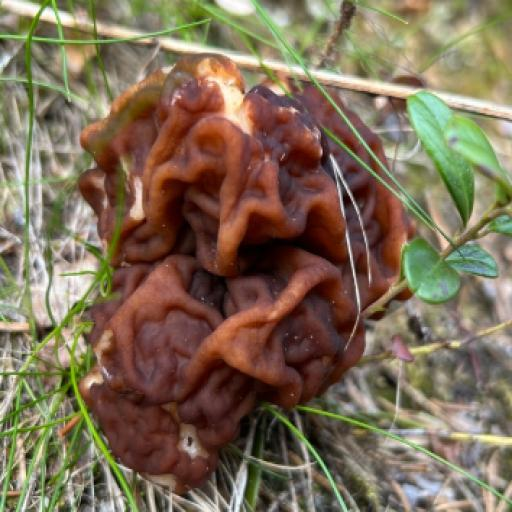mushroom: (64, 49, 412, 483)
